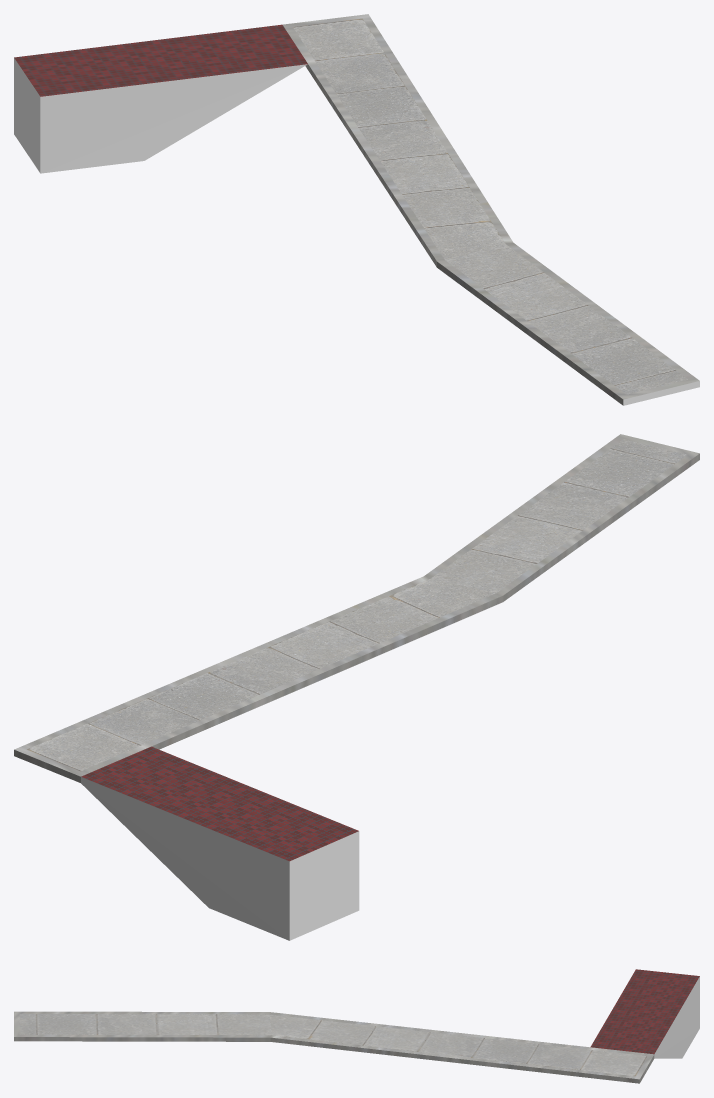
The model's file is pasillo_entrada_media.glb.
3 views of the same model, one above another, from view 1: azimuth 30°, elevation 25°; view 2: azimuth 150°, elevation 25°; view 3: azimuth 270°, elevation 25° (orthographic). The views are drawn at different scales.
Visible parts, largest first — view 1: pasillo entrada media; view 2: pasillo entrada media; view 3: pasillo entrada media.
Part boxes in pixels (box(x1,y1,x2,y2)): pasillo entrada media: box(14, 14, 699, 405); pasillo entrada media: box(14, 434, 699, 940); pasillo entrada media: box(14, 969, 699, 1083).
Bounding box in the file's own units: 95.03 × 21.09 × 250.
Materials: 3 (2 with a texture image).
